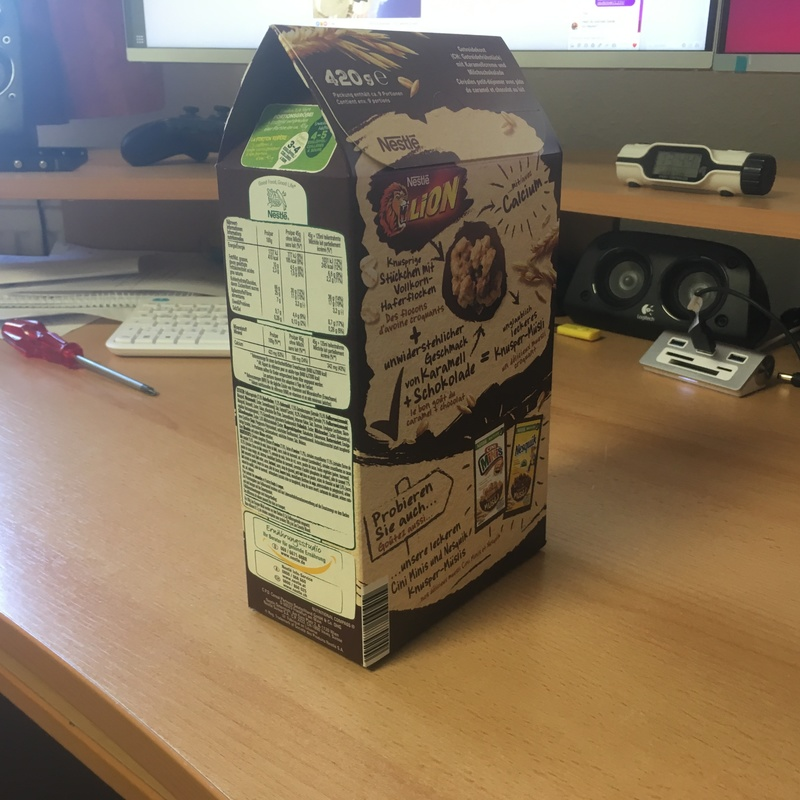cereals: (216, 26, 563, 672)
